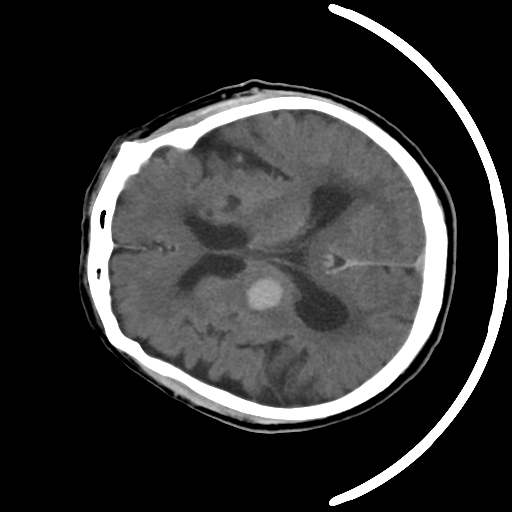a: (224, 262, 302, 336)
